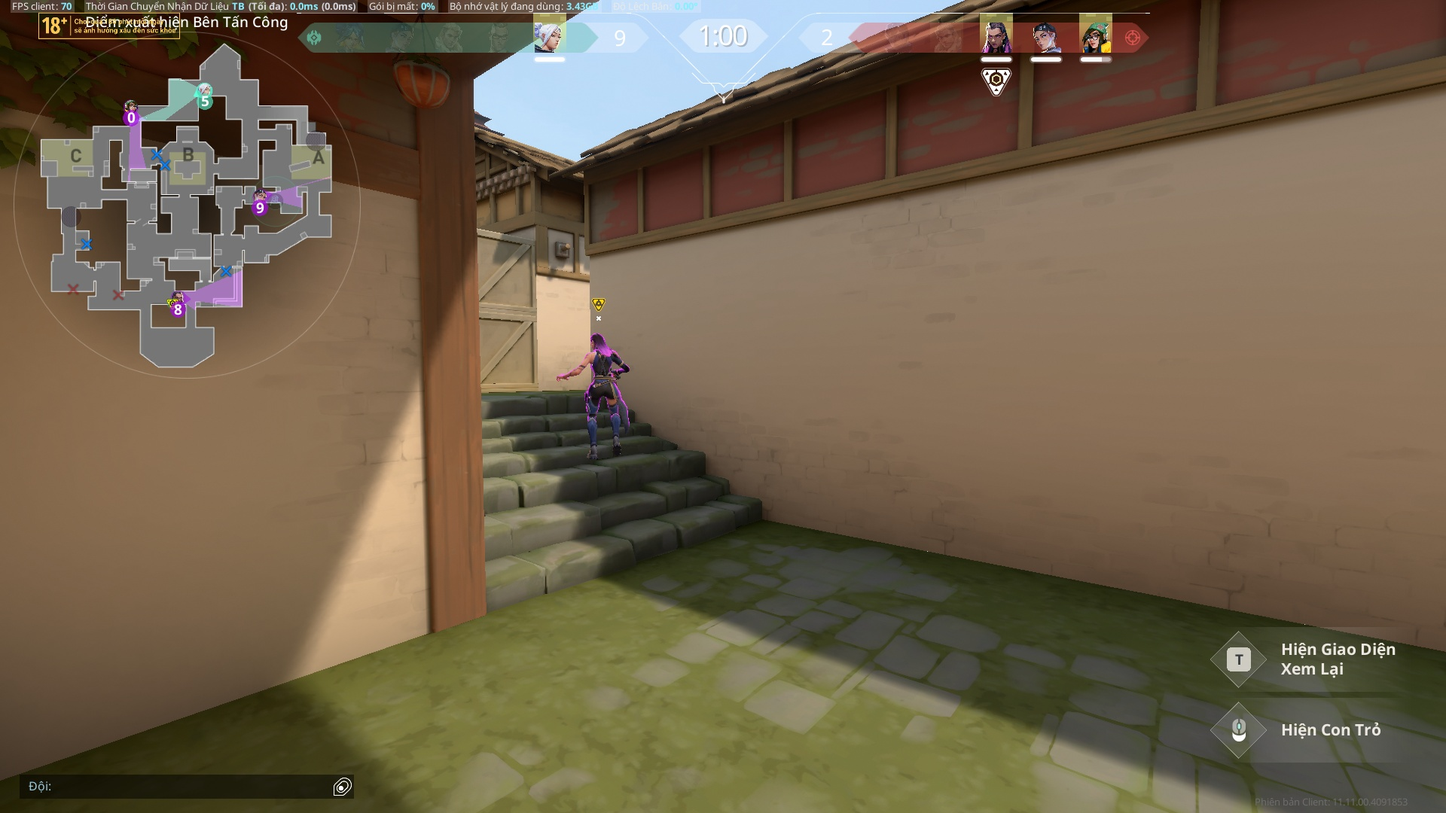body: (587, 347, 614, 377)
head: (589, 333, 606, 349)
